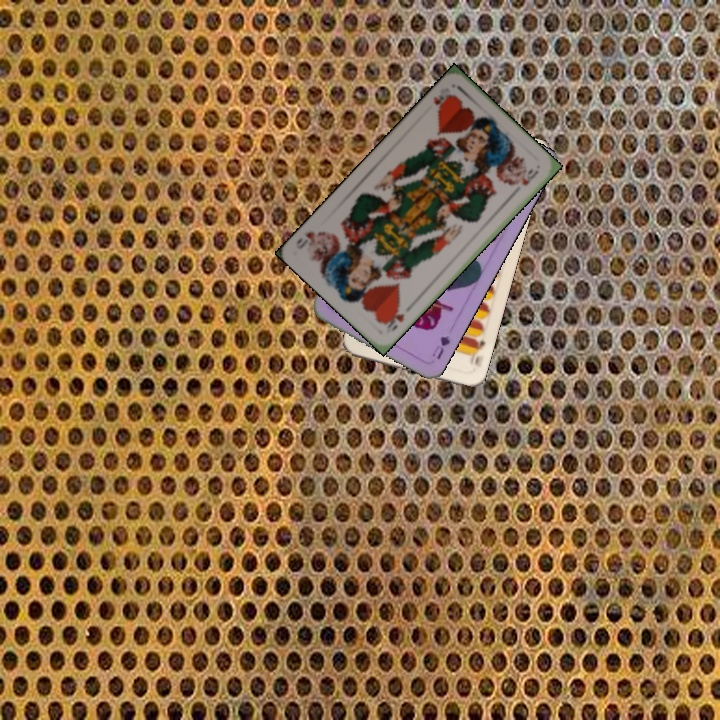E10: (466, 334, 488, 367)
GU: (428, 331, 453, 362)
HO: (380, 306, 407, 335), (429, 90, 456, 114)
